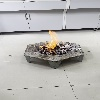fire: (39, 30, 64, 55)
